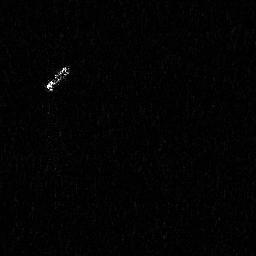ship: (43, 63, 72, 94)
